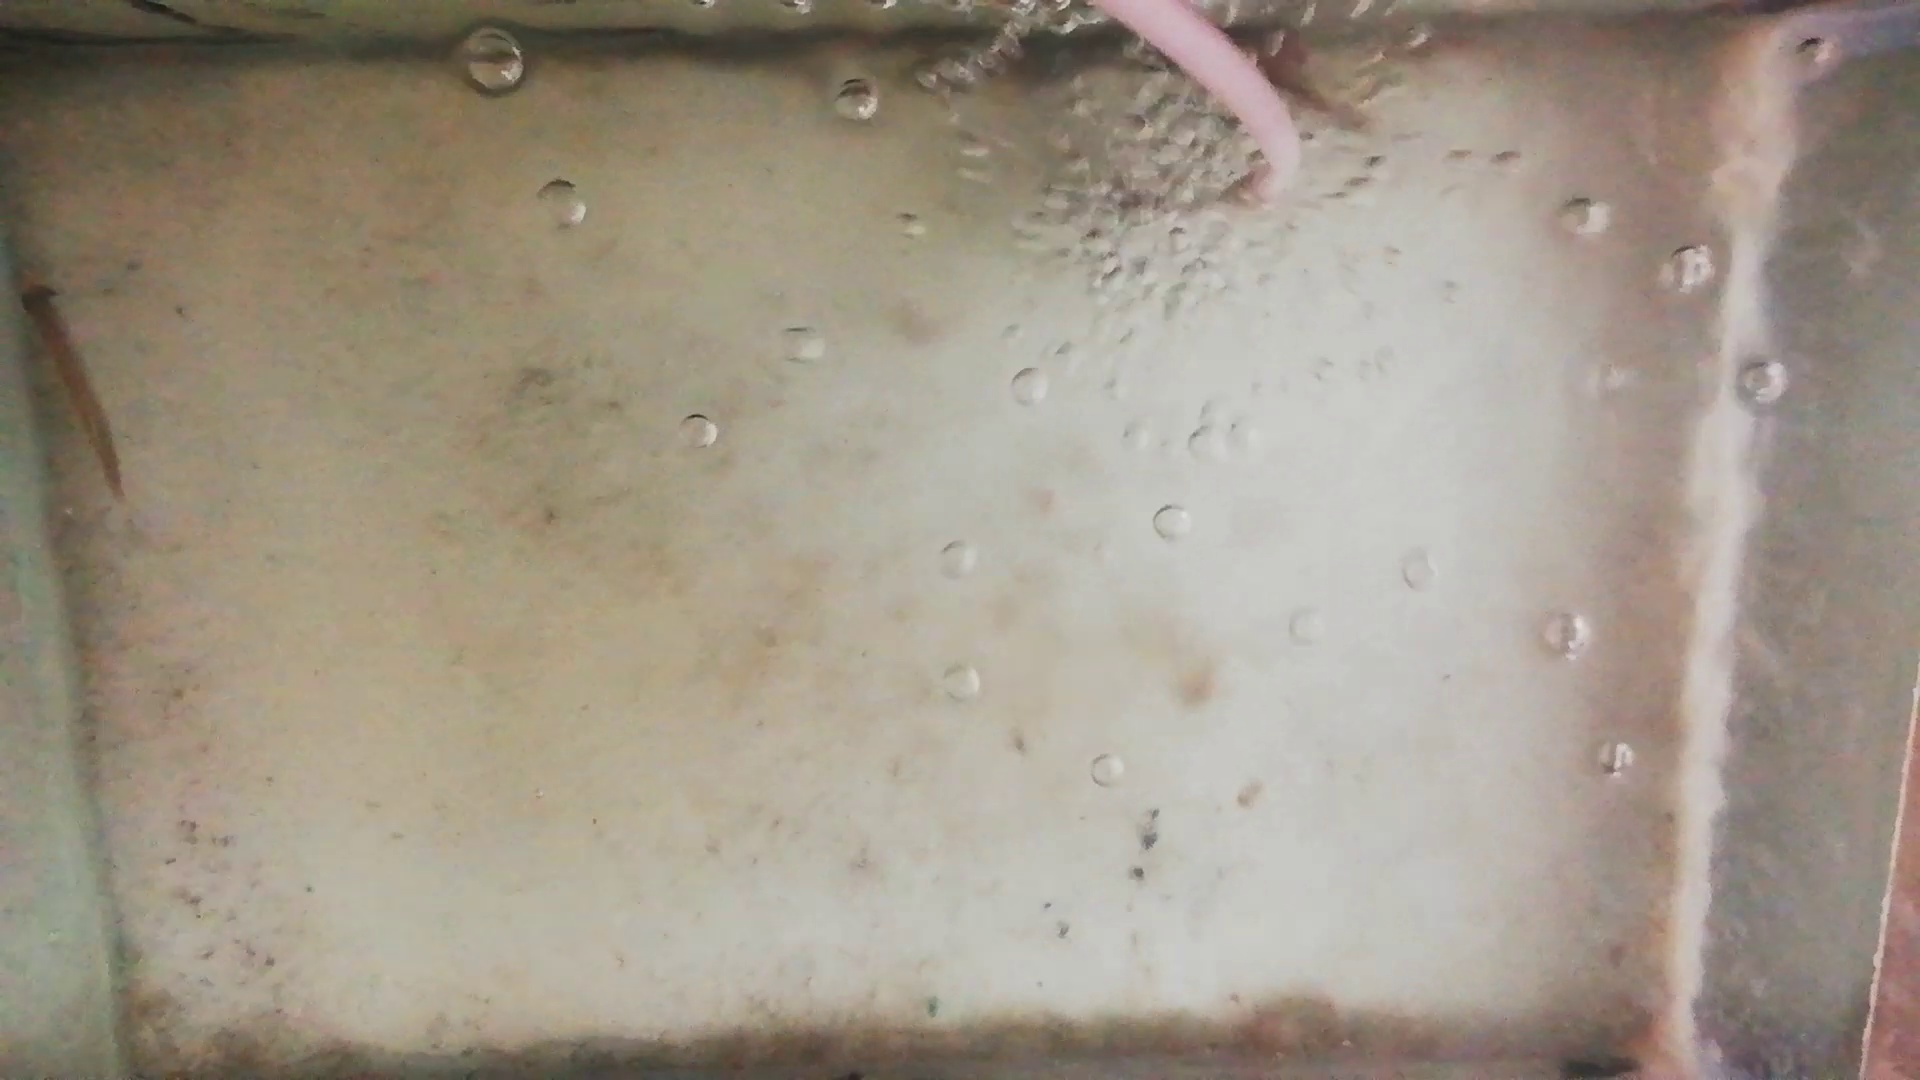fish: (22, 281, 125, 498), (1246, 40, 1367, 119)
